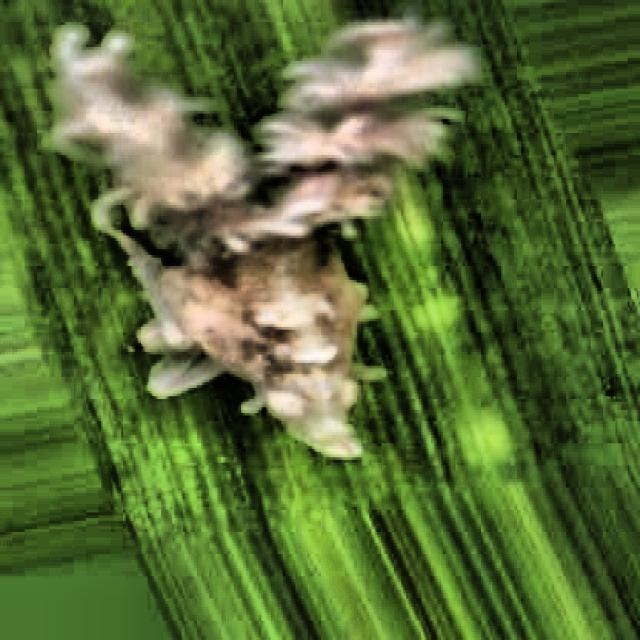Pyrilla-perpusilla: (26, 0, 486, 536)
